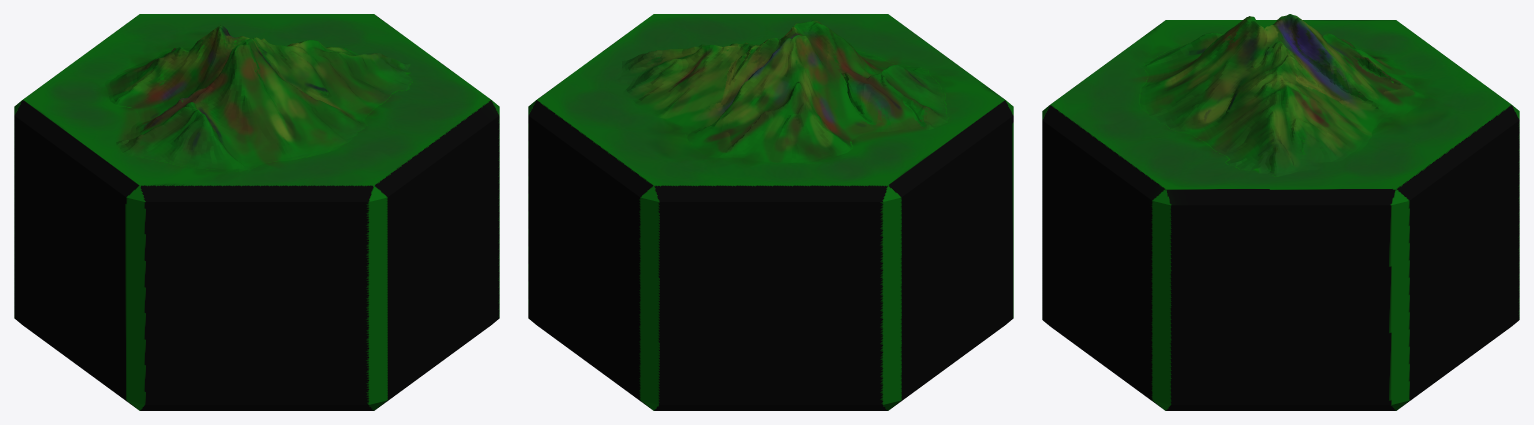
File: Green.01.fbx
The picture shows the model from 3 angles, left to right: view 1: azimuth 30°, elevation 25°; view 2: azimuth 150°, elevation 25°; view 3: azimuth 270°, elevation 25°; orthographic projection.
Visible parts, largest first — view 1: 01.Green; view 2: 01.Green; view 3: 01.Green.
Boxes of the visible parts, x1,y1,x2,y2 form: 01.Green: [14, 14, 499, 410]; 01.Green: [528, 14, 1013, 410]; 01.Green: [1042, 14, 1519, 410].
Size of the model in its own units: 173 by 134 by 195.
1 material, 1 textured.
